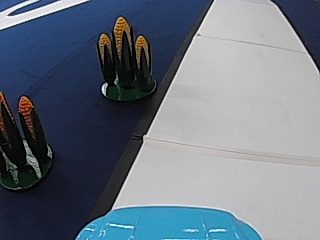corn: (94, 12, 158, 101), (0, 88, 55, 189)
